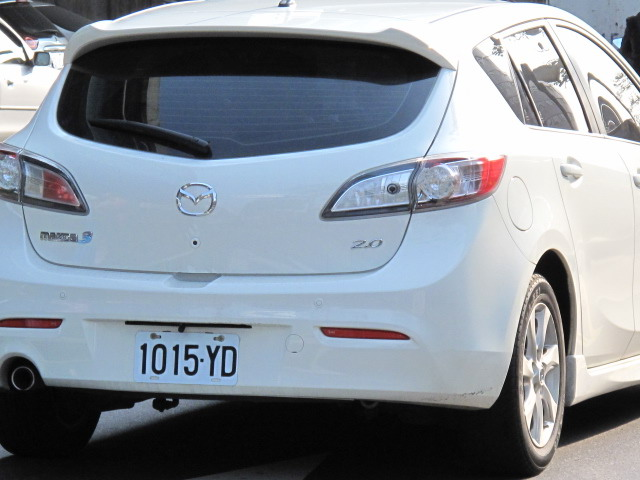plate: (131, 328, 240, 388)
